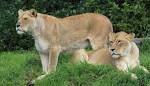lion: (12, 9, 107, 72), (82, 33, 145, 78)
